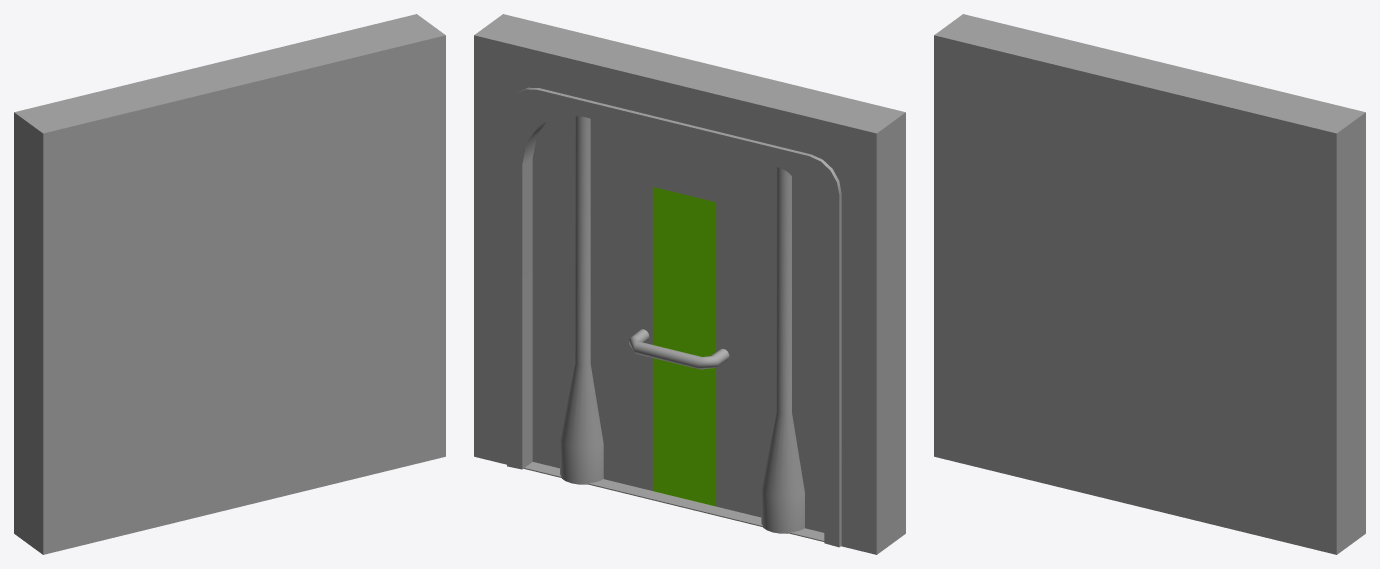
Rendered from VaultDoor.fbx.
3 renders of one model, left to right at view 1: azimuth 30°, elevation 25°; view 2: azimuth 150°, elevation 25°; view 3: azimuth 330°, elevation 25°, orthographic.
Parts seen in each view (by area): view 1: VaultDoor; view 2: VaultDoor, Door_cylinder_2, Door_cylinder, Door_Handle; view 3: VaultDoor.
Part boxes in pixels (x1,y1,x2,y2): VaultDoor: (14, 14, 445, 554); VaultDoor: (474, 14, 905, 554); Door_cylinder_2: (560, 116, 603, 484); Door_cylinder: (761, 166, 804, 533); Door_Handle: (628, 329, 729, 369); VaultDoor: (934, 14, 1365, 554).
Size of the model in its own units: 0.04 by 0.04 by 0.00659.
